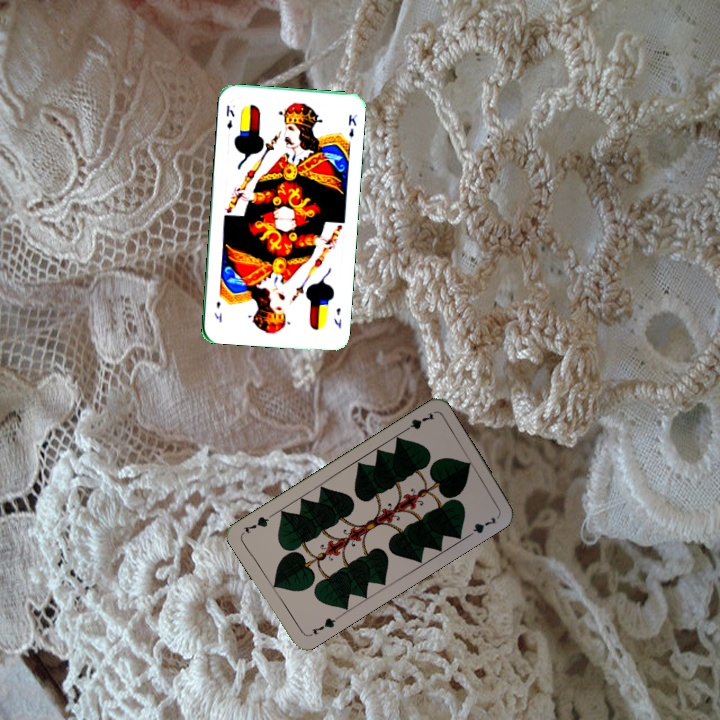EK: (222, 101, 237, 131), (330, 304, 344, 331)
G7: (399, 408, 437, 435), (304, 612, 341, 639)
